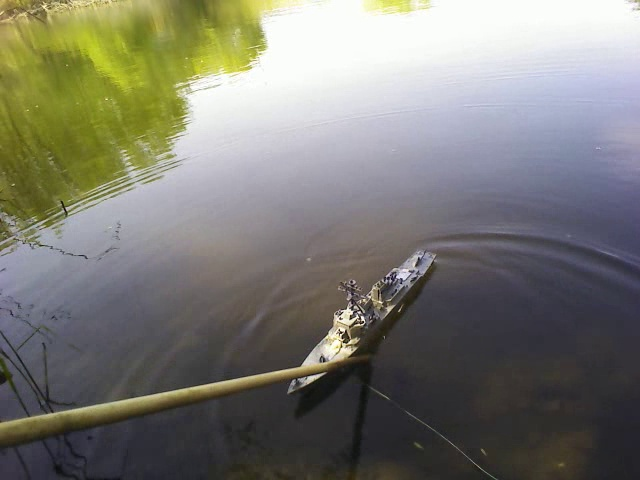warship: (282, 248, 437, 399)
